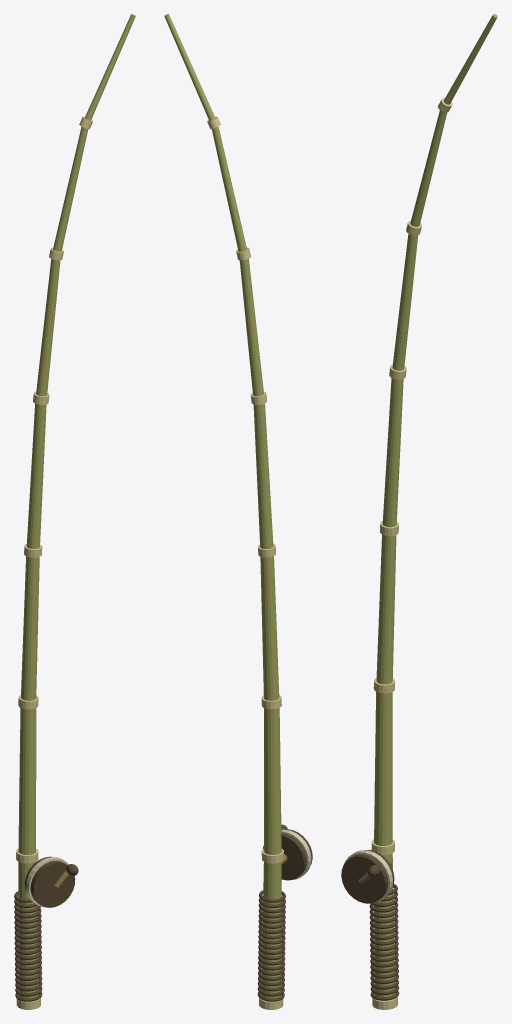
Rendered from BambooRod.fbx.
3 renders of one model, left to right at view 1: azimuth 30°, elevation 25°; view 2: azimuth 150°, elevation 25°; view 3: azimuth 330°, elevation 25°, orthographic. The views are drawn at different scales.
Parts seen in each view (by area): view 1: SM_BambooRod; view 2: SM_BambooRod; view 3: SM_BambooRod.
Boxes of the visible parts, x1,y1,x2,y2 form: SM_BambooRod: [14, 14, 135, 1009]; SM_BambooRod: [164, 14, 312, 1009]; SM_BambooRod: [341, 14, 497, 1009].
Bounding box in the file's own units: 0.3052 × 2.22 × 0.1564.
